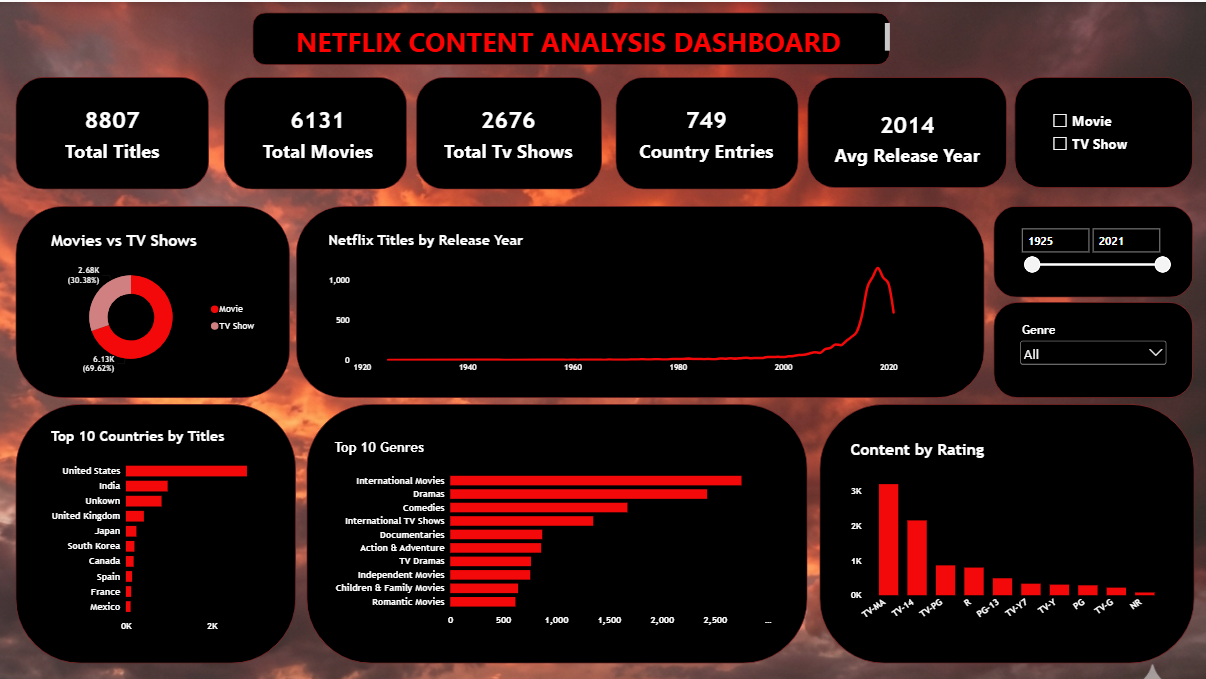

The page's visual inventory and layout, read from the dashboard file:
{"tool":"powerbi","page":{"name":"Netflix Dashboard","canvas":[1920,1080],"ordinal":0},"visuals":[{"type":"card","fields":{"Values":["_measure.Total Titles"]},"box":[0,109.8,329.3,195.6],"z":0},{"type":"textbox","box":[0,0,1920.7,109.8],"z":1000},{"type":"card","fields":{"Values":["_measure.Total Movies"]},"box":[329.3,109.8,329.3,195.6],"z":2000},{"type":"card","fields":{"Values":["_measure.Total Tv Shows"]},"box":[658.5,109.8,329.3,195.6],"z":3000},{"type":"card","fields":{"Values":["_measure.Country Entries"]},"box":[987.8,109.8,329.3,195.6],"z":4000},{"type":"card","fields":{"Values":["_measure.Average Release Year"]},"box":[1317,109.8,329.3,195.6],"z":5000},{"type":"donutChart","title":"Movies vs TV Shows","fields":{"Y":["CountNonNull(NetflixTitles_Cleaned.show_id)"],"Category":["NetflixTitles_Cleaned.type"]},"box":[0,305.4,696.7,303],"z":6000},{"type":"clusteredBarChart","title":"Top 10 Countries by Titles","fields":{"Category":["NetflixTitles_Cleaned.country"],"Y":["CountNonNull(NetflixTitles_Cleaned.show_id)"]},"box":[0,608.4,517.7,412.8],"z":7000},{"type":"lineChart","title":"Netflix Titles by Release Year","fields":{"Category":["NetflixTitles_Cleaned.release_year"],"Y":["CountNonNull(NetflixTitles_Cleaned.show_id)"]},"box":[696.7,305.4,949.6,303],"z":8000},{"type":"clusteredBarChart","title":"Top 10 Genres","fields":{"Category":["NetflixGenres.listed_in"],"Y":["CountNonNull(NetflixGenres.show_id)"]},"box":[517.7,608.4,663.3,403.2],"z":9000},{"type":"slicer","fields":{"Values":["NetflixTitles_Cleaned.type"]},"box":[1646.3,109.8,274.4,195.6],"z":10000},{"type":"clusteredColumnChart","title":"Content by Rating","fields":{"Category":["NetflixTitles_Cleaned.rating"],"Y":["CountNonNull(NetflixTitles_Cleaned.show_id)"]},"box":[1181,608.4,742,403.2],"z":11000},{"type":"slicer","fields":{"Values":["NetflixTitles_Cleaned.release_year"]},"box":[1646.3,305.4,274.4,133.6],"z":12000},{"type":"slicer","fields":{"Values":["NetflixGenres.listed_in"]},"box":[1646.3,439,274.4,169.4],"z":13000}]}

Visuals, with their boxes in screenshot pixels (x1, y1, x2, y2), scaled from the page's 1920x1080 canvas onto the 1206x679 screenshot:
card - _measure.Total Titles: 0/69/207/192
textbox: 0/0/1205/69
card - _measure.Total Movies: 207/69/414/192
card - _measure.Total Tv Shows: 414/69/620/192
card - _measure.Country Entries: 620/69/827/192
card - _measure.Average Release Year: 827/69/1034/192
"Movies vs TV Shows" donutChart: 0/192/438/383
"Top 10 Countries by Titles" clusteredBarChart: 0/383/325/642
"Netflix Titles by Release Year" lineChart: 438/192/1034/383
"Top 10 Genres" clusteredBarChart: 325/383/742/636
slicer - NetflixTitles_Cleaned.type: 1034/69/1205/192
"Content by Rating" clusteredColumnChart: 742/383/1205/636
slicer - NetflixTitles_Cleaned.release_year: 1034/192/1205/276
slicer - NetflixGenres.listed_in: 1034/276/1205/383
